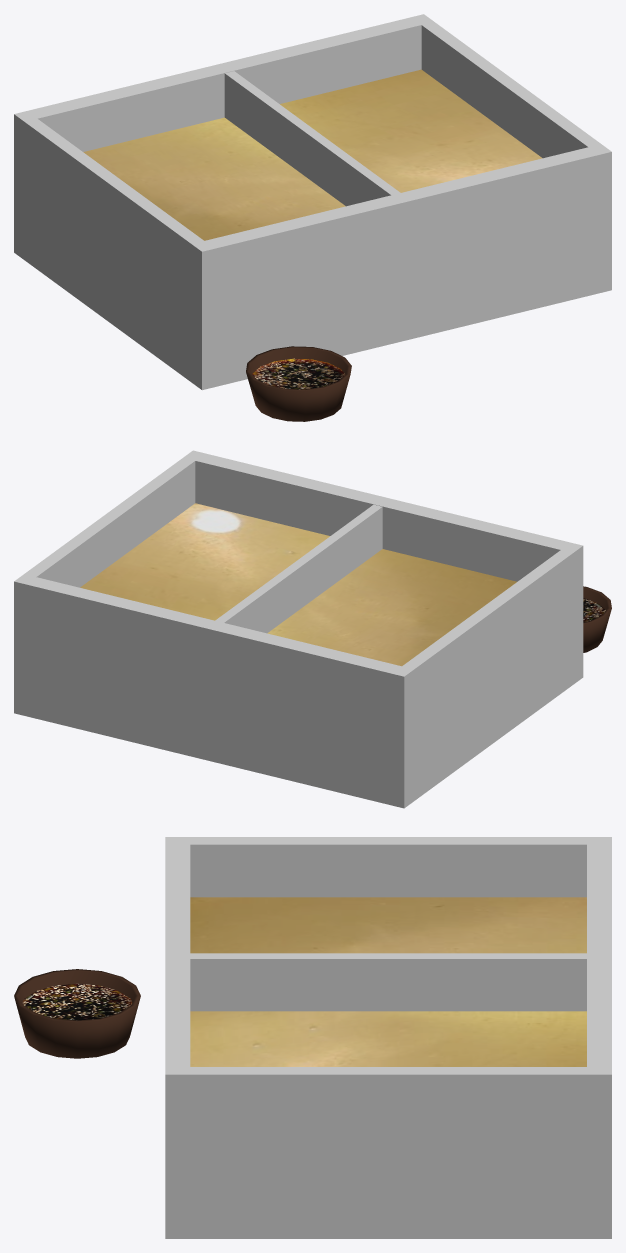
The model's file is FishCake_Case.fbx.
3 views of the same model, one above another, from view 1: azimuth 30°, elevation 25°; view 2: azimuth 150°, elevation 25°; view 3: azimuth 270°, elevation 25° (orthographic). The views are drawn at different scales.
Parts seen in each view (by area): view 1: FishCake_Case, Partition, SoySource_Dish; view 2: FishCake_Case, Partition, SoySource_Dish; view 3: FishCake_Case, Partition, SoySource_Dish.
Boxes of the visible parts, x1=… form: FishCake_Case: x1=14, y1=14, x2=611, y2=390; Partition: x1=224, y1=71, x2=400, y2=206; SoySource_Dish: x1=246, y1=346, x2=351, y2=421; FishCake_Case: x1=14, y1=450, x2=583, y2=808; Partition: x1=215, y1=504, x2=382, y2=633; SoySource_Dish: x1=583, y1=586, x2=611, y2=652; FishCake_Case: x1=165, y1=837, x2=611, y2=1238; Partition: x1=190, y1=953, x2=586, y2=1011; SoySource_Dish: x1=14, y1=969, x2=140, y2=1058.
Size of the model in its own units: 221 by 71.8 by 236.
4 materials, 2 textured.
